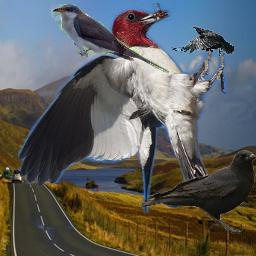Crow: (140, 150, 256, 234), (170, 26, 234, 57)
Cuckoo: (51, 4, 169, 75)
Woodpecker: (18, 3, 227, 213)
